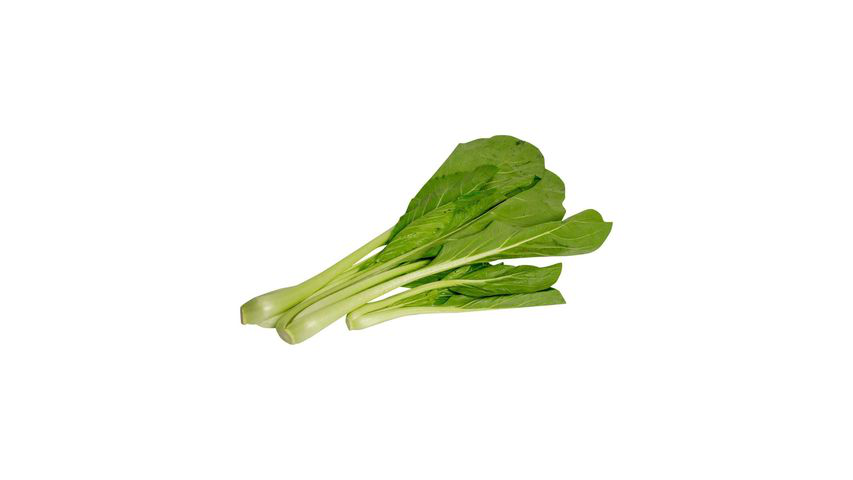Sawi: (241, 113, 672, 379)
